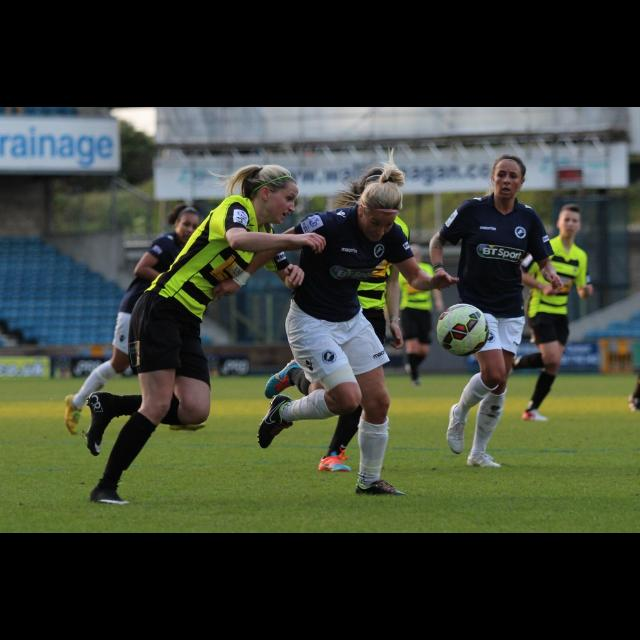Football: (436, 302, 489, 356)
